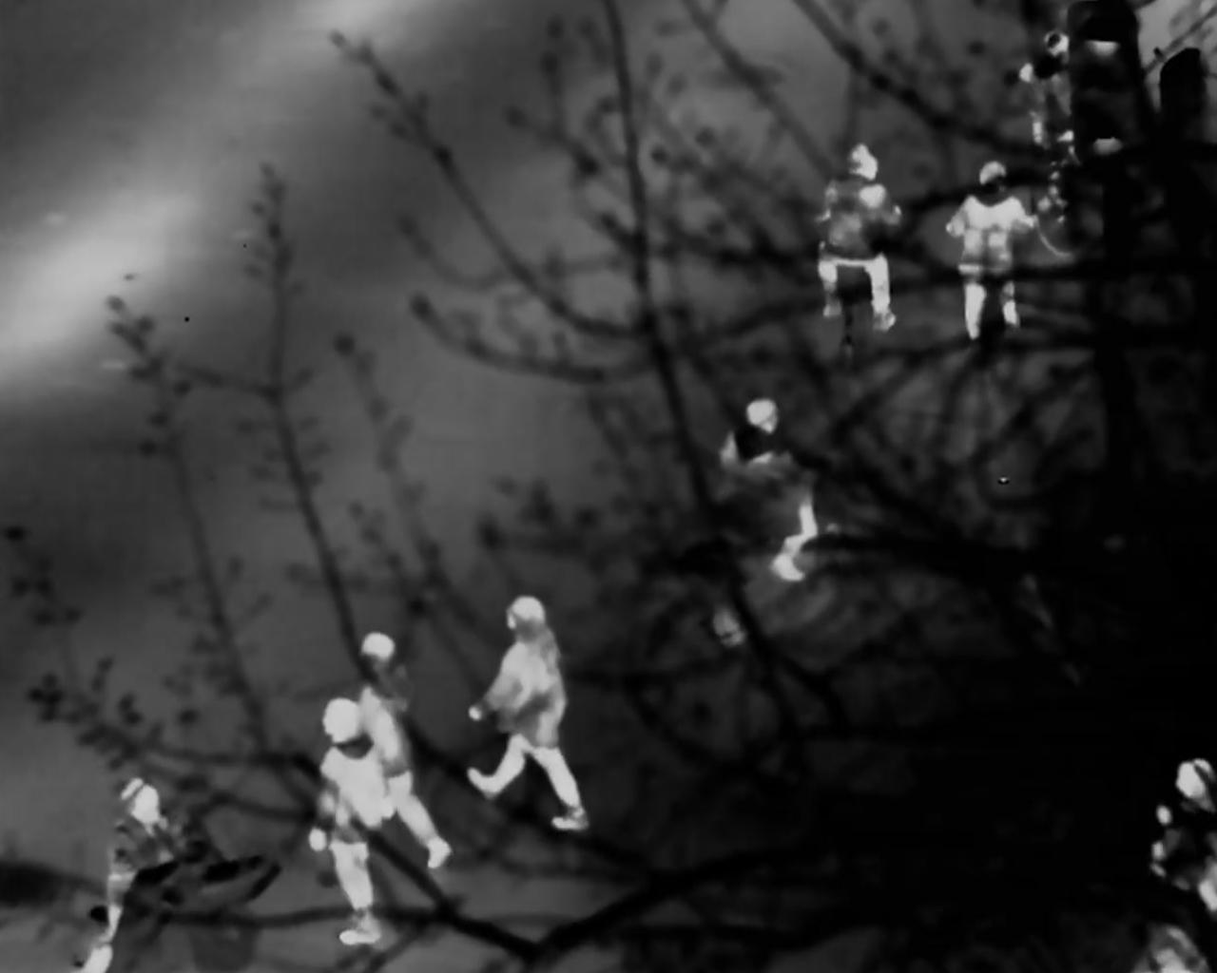person: (715, 386, 825, 635), (473, 590, 583, 833), (336, 620, 443, 868), (306, 694, 405, 948), (84, 773, 195, 973), (805, 143, 903, 344), (954, 162, 1033, 343), (1156, 760, 1217, 894)
